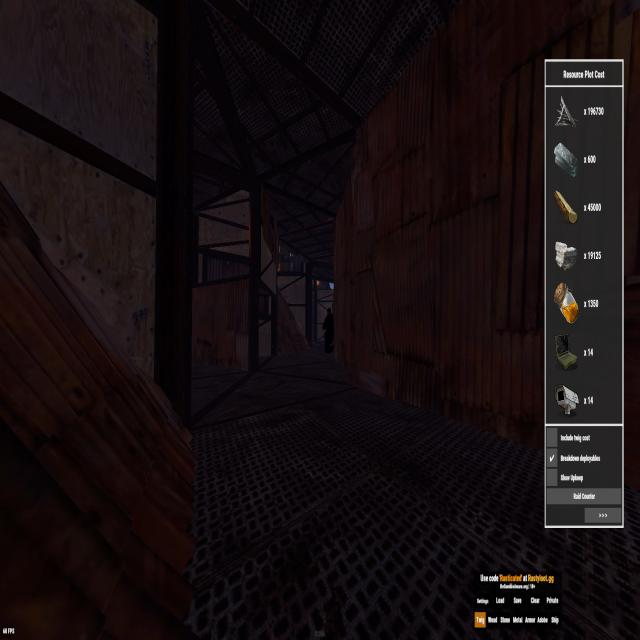Player: (321, 306, 334, 356)
